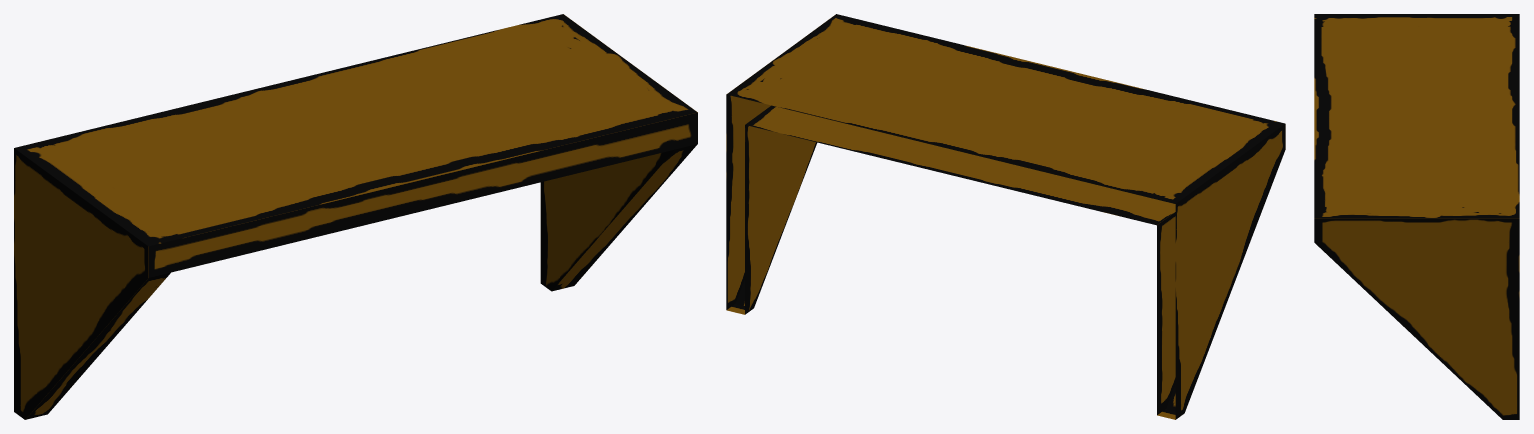
File: Desk.fbx
The picture shows the model from 3 angles, left to right: view 1: azimuth 30°, elevation 25°; view 2: azimuth 150°, elevation 25°; view 3: azimuth 270°, elevation 25°; orthographic projection. The views are drawn at different scales.
Visible parts, largest first — view 1: Cube; view 2: Cube; view 3: Cube.
Part boxes in pixels (box(x1,y1,x2,y2)): Cube: box(14, 14, 697, 419); Cube: box(726, 14, 1285, 419); Cube: box(1314, 14, 1519, 419).
Size of the model in its own units: 590 by 271 by 250.
1 material, 1 textured.
